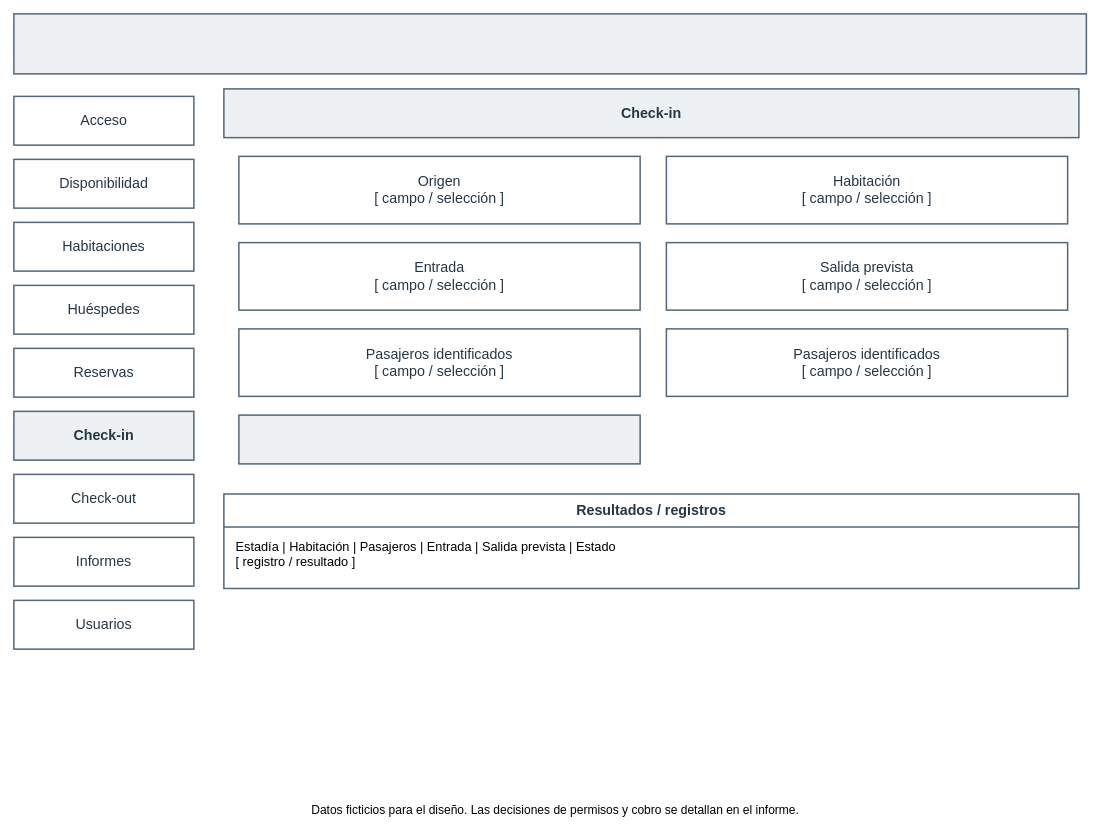
The diagram is 1100 pixels wide and 836 high, and some of its shapes have lost their labels. The shapes that lost their labels are listed below. From the top down, each one's centre as x and y in pixels, then its label:
[550,43]: Hotel Duerme Bien · Sistema de pasajeros
[439,439]: Confirmar check-in
